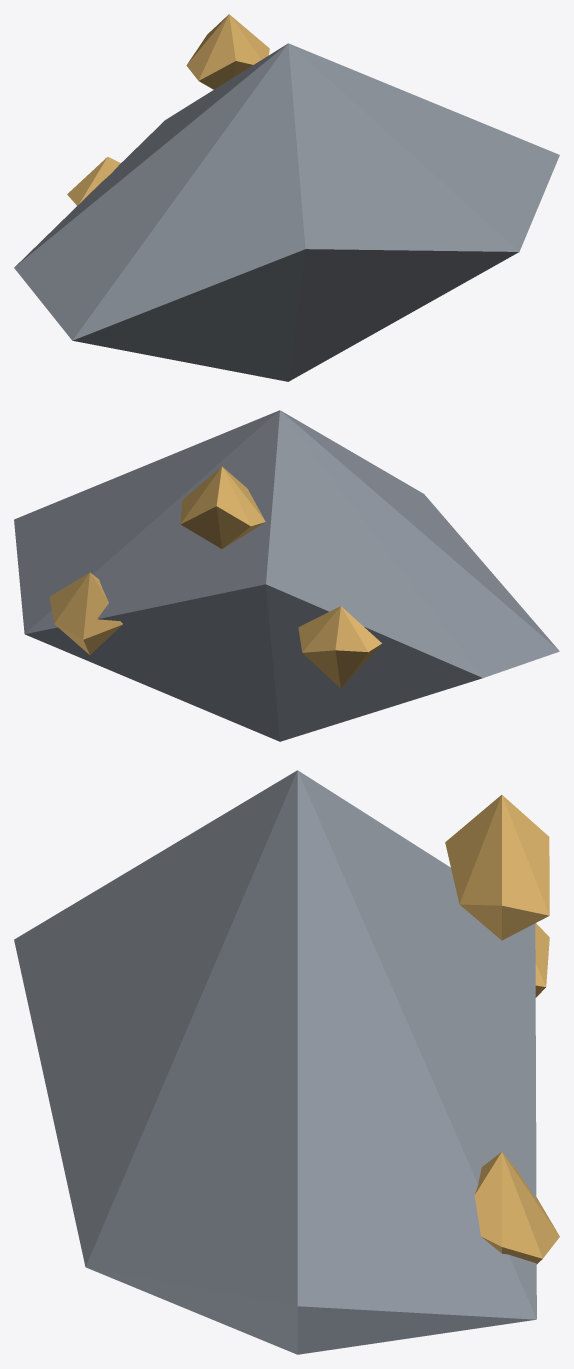
The model's file is cave_ore_deposit.glb.
3 views of the same model, one above another, from view 1: azimuth 30°, elevation 25°; view 2: azimuth 150°, elevation 25°; view 3: azimuth 270°, elevation 25° (orthographic). The views are drawn at different scales.
Parts seen in each view (by area): view 1: cave_ore_deposit_Mesh; view 2: cave_ore_deposit_Mesh; view 3: cave_ore_deposit_Mesh.
Boxes of the visible parts, x1,y1,x2,y2 form: cave_ore_deposit_Mesh: [14, 14, 559, 381]; cave_ore_deposit_Mesh: [14, 410, 559, 741]; cave_ore_deposit_Mesh: [14, 770, 559, 1354].
Bounding box in the file's own units: 1.94 × 1.2 × 1.02.
